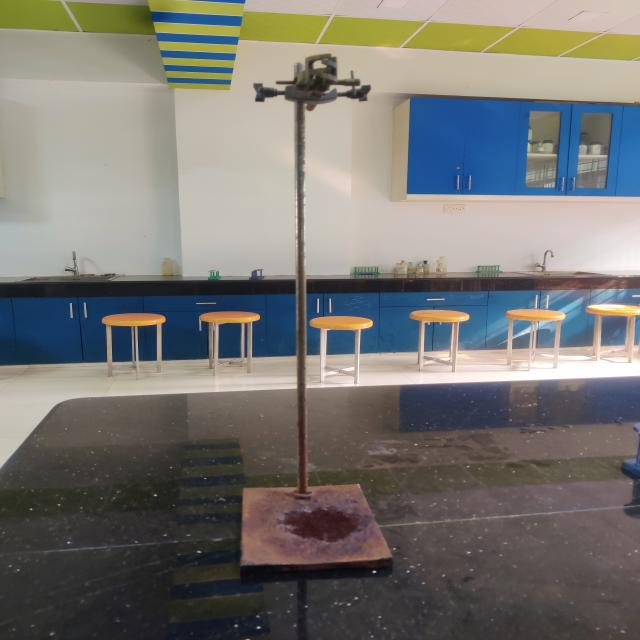Burette_Stands: (194, 28, 436, 612)
